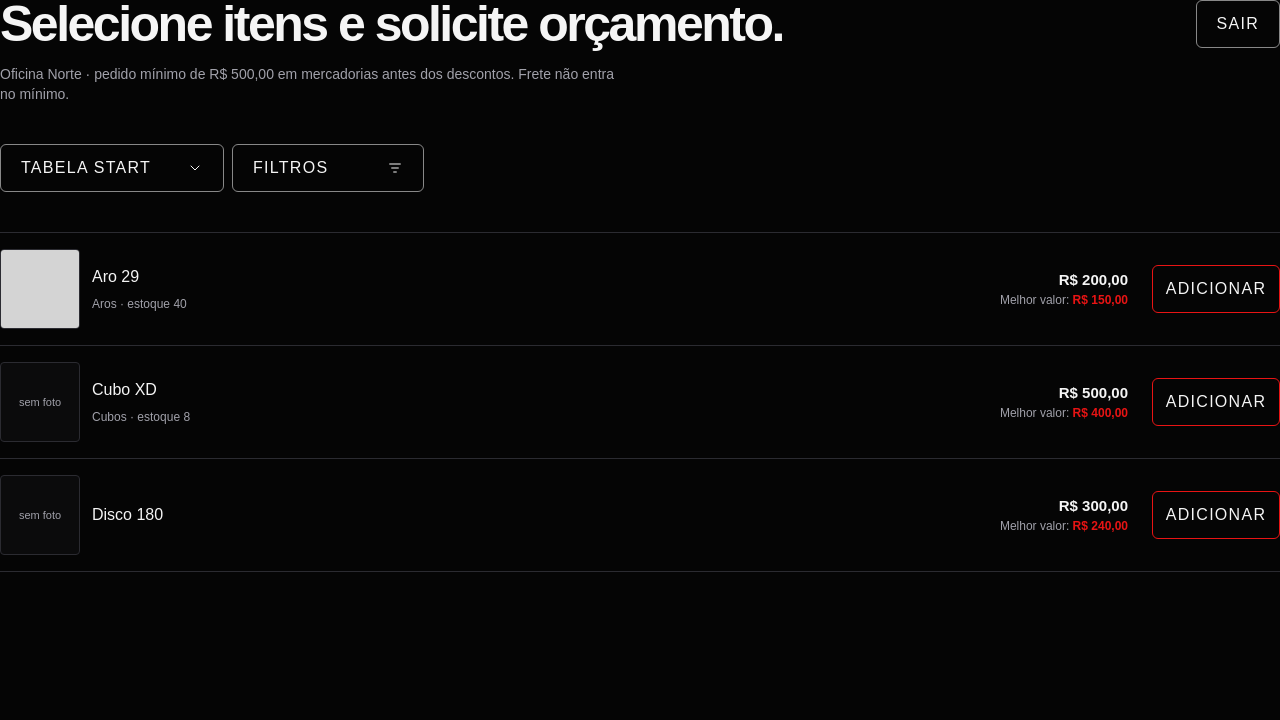
Test: B2BCatalogPage prices › reports how much the order still needs for the next table
The width and height of the screenshot is (1280, 720).
Click the button with aria-label "Adicionar Aro 29 ao pedido".
click(1216, 289)  # box [1152,265,1279,313]
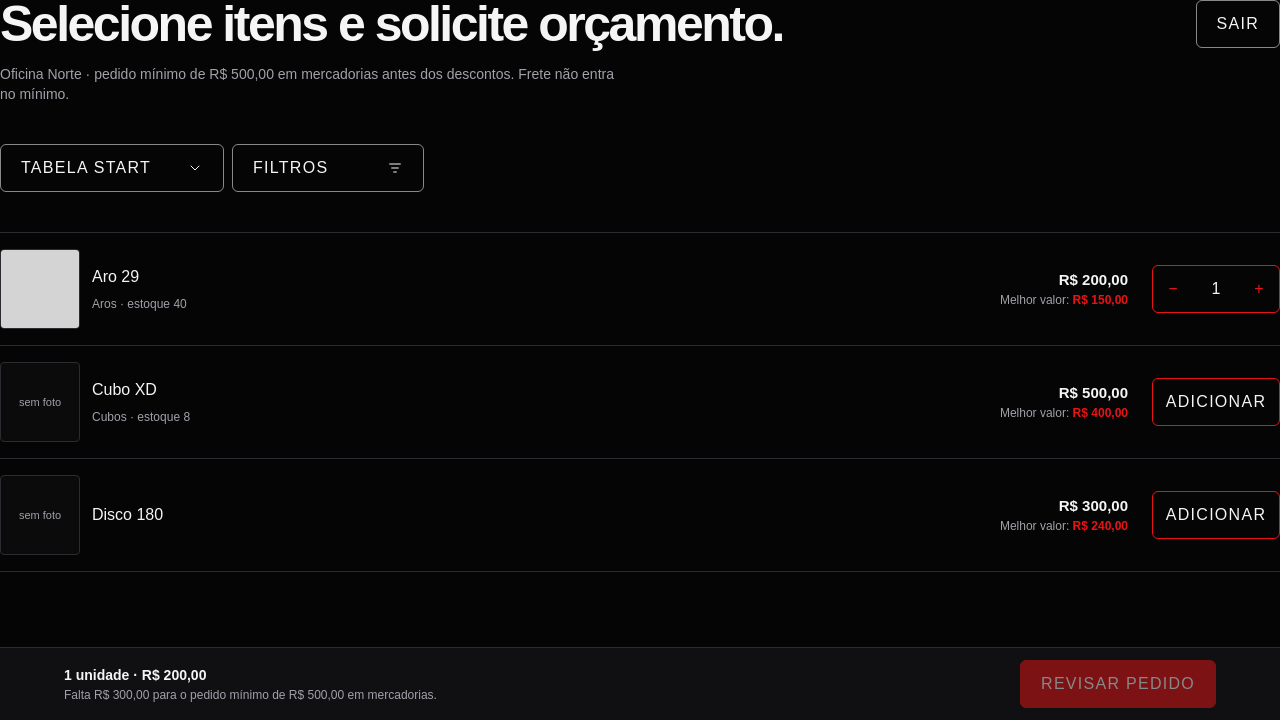
Replace the text in the number field named "Quantidade de Aro 29" with "6" at point(1216, 289), box [1193,276,1239,302]
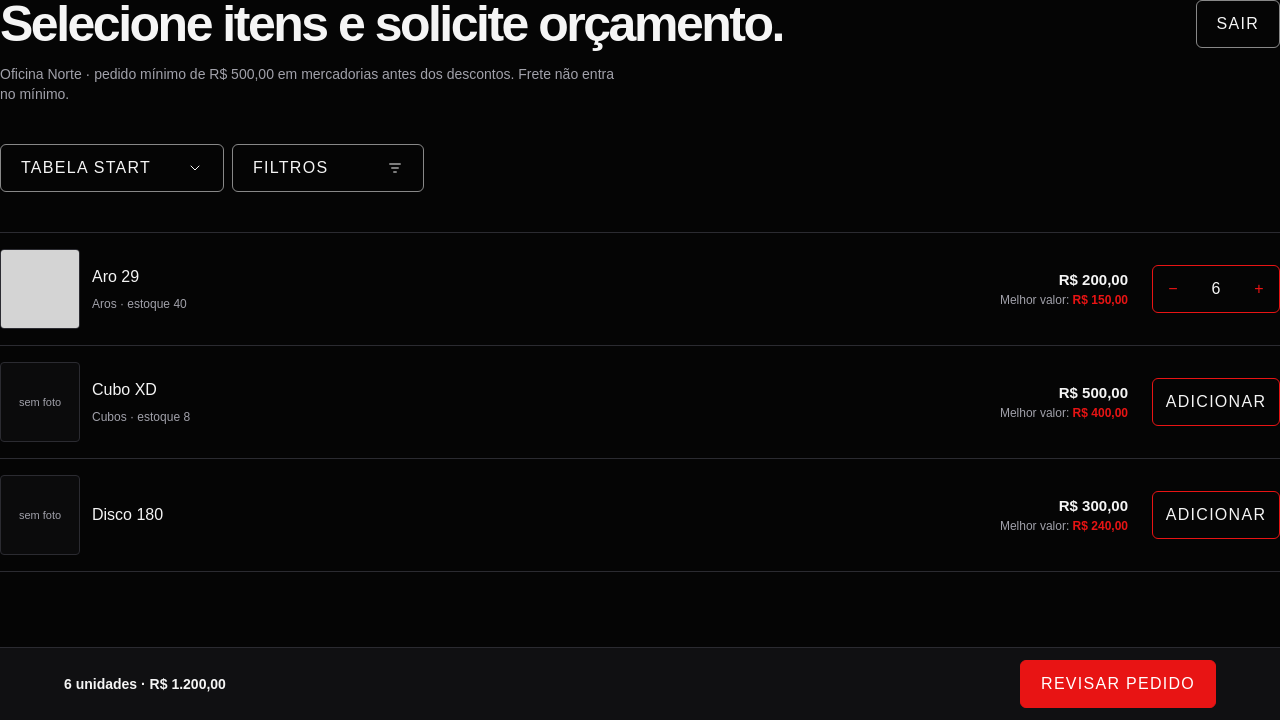
Click the button "Revisar pedido".
click(1118, 684)  # box [1020,660,1216,708]
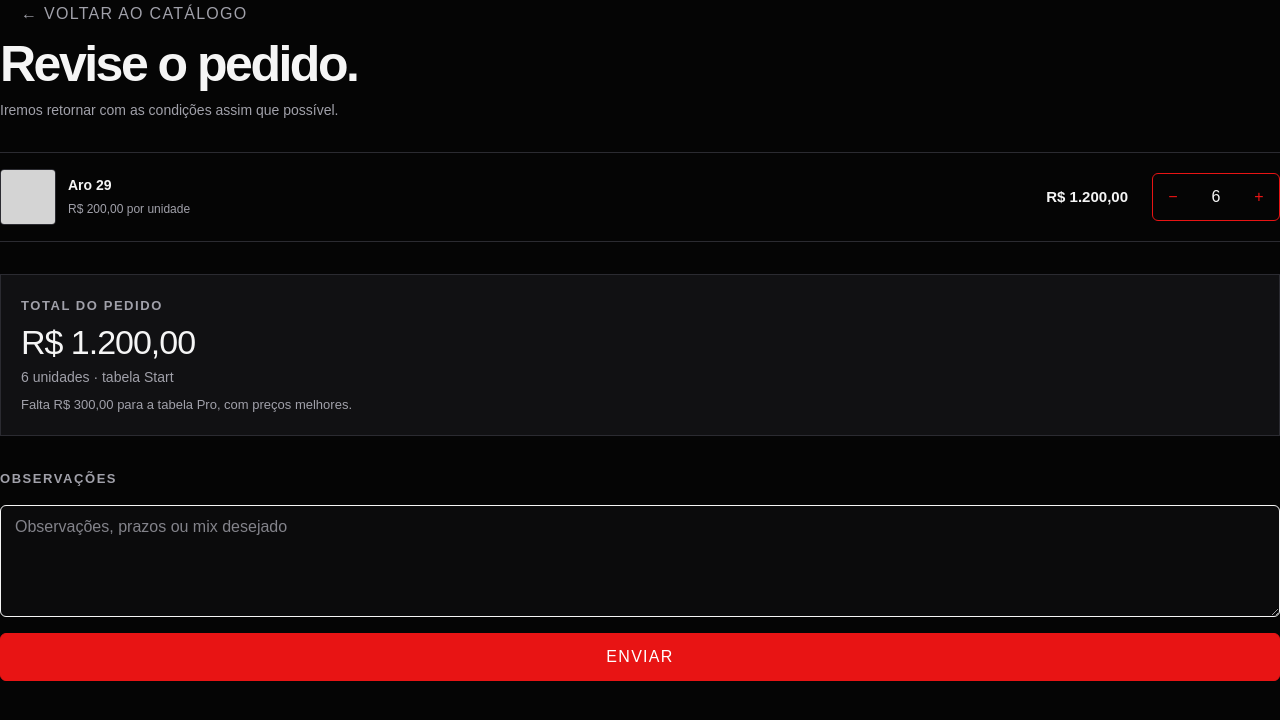
Now the text "Falta R$ 300,00 para a tabela Pro, com preços melhores." is shown, box [21,397,352,412]
